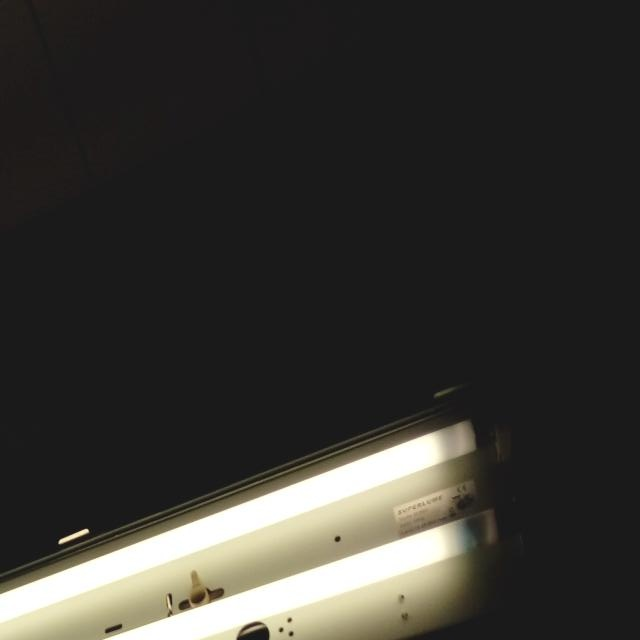fluorescent tube: (0, 396, 523, 640), (0, 498, 508, 640)
